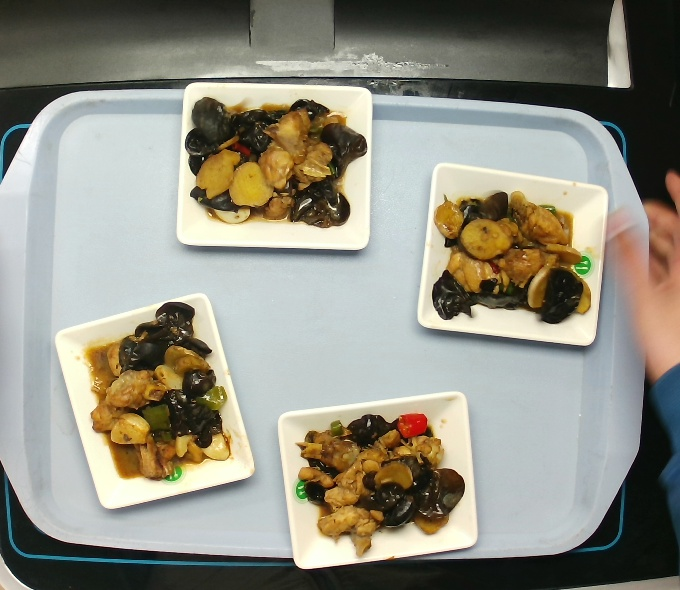wcq-MuErJiKuai: (81, 299, 236, 482), (285, 408, 470, 550), (425, 184, 596, 327), (189, 91, 356, 231)
